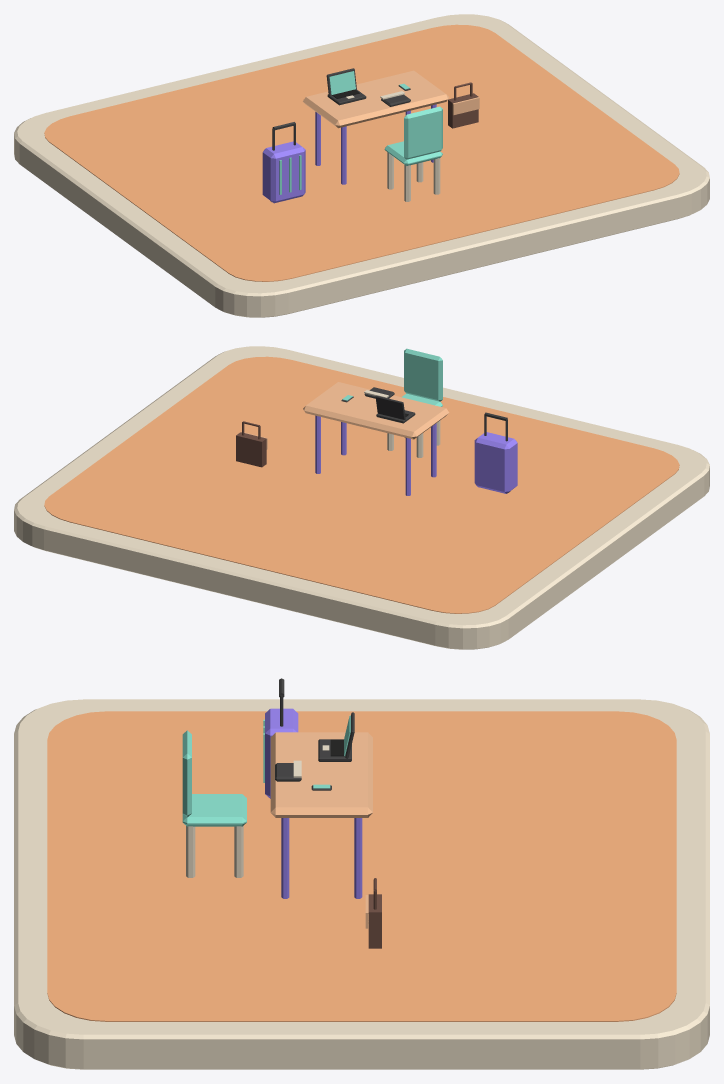
The model's file is room.fbx.
The picture shows the model from 3 angles, top to bottom: view 1: azimuth 30°, elevation 25°; view 2: azimuth 150°, elevation 25°; view 3: azimuth 270°, elevation 25°; orthographic projection. The views are drawn at different scales.
Visible parts, largest first — view 1: COM-02 Floor Surface, COM-01 Rounded Base Direct, Rounded table top, Shell, Backrest, Bag, Seat, Display face; view 2: COM-02 Floor Surface, COM-01 Rounded Base Direct, Rounded table top, Shell, Backrest, Bag, Hinged display; view 3: COM-02 Floor Surface, COM-01 Rounded Base Direct, Rounded table top, Seat, Shell, Bag, Backrest, Leg.002, Leg.003.
Part boxes in pixels (x1,y1,x2,y2): COM-02 Floor Surface: (44, 24, 679, 281); COM-01 Rounded Base Direct: (14, 14, 709, 317); Rounded table top: (303, 70, 449, 128); Shell: (262, 141, 305, 203); Backrest: (404, 106, 442, 159); Bag: (448, 82, 479, 128); Seat: (384, 141, 442, 165); Display face: (329, 71, 355, 94); COM-02 Floor Surface: (44, 356, 679, 613); COM-01 Rounded Base Direct: (14, 346, 709, 649); Rounded table top: (303, 382, 449, 439); Shell: (474, 432, 517, 493); Backrest: (404, 348, 442, 401); Bag: (236, 421, 267, 467); Hinged display: (375, 395, 405, 420); COM-02 Floor Surface: (47, 711, 676, 1021); COM-01 Rounded Base Direct: (14, 699, 709, 1069); Rounded table top: (270, 732, 372, 817); Seat: (182, 794, 246, 826); Shell: (265, 708, 298, 798); Bag: (365, 878, 381, 948); Backrest: (182, 730, 191, 817); Leg.002: (281, 818, 289, 898); Leg.003: (354, 818, 362, 898).
Size of the model in its own units: 600 by 135 by 520.
